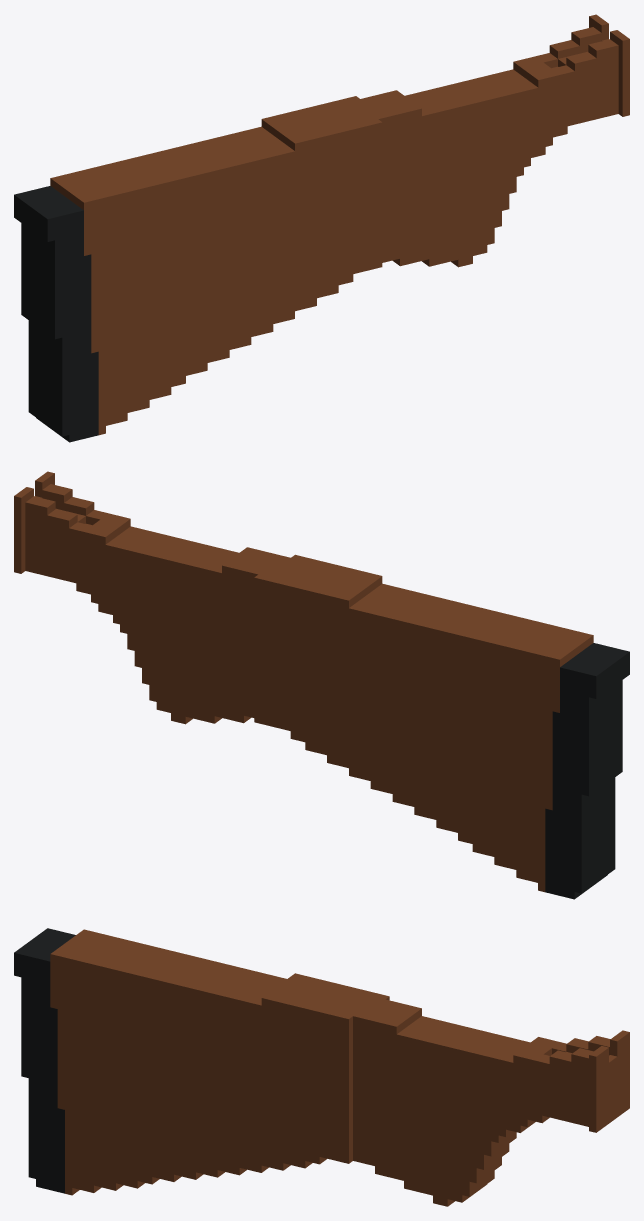
The model's file is stock_sporting_medium.glb.
3 views of the same model, one above another, from view 1: azimuth 30°, elevation 25°; view 2: azimuth 150°, elevation 25°; view 3: azimuth 330°, elevation 25° (orthographic).
Parts seen in each view (by area): view 1: stock_sporting_medium:stock; view 2: stock_sporting_medium:stock; view 3: stock_sporting_medium:stock.
Boxes of the visible parts, x1=… form: stock_sporting_medium:stock: x1=14, y1=14, x2=629, y2=442; stock_sporting_medium:stock: x1=14, y1=471, x2=629, y2=899; stock_sporting_medium:stock: x1=14, y1=928, x2=629, y2=1206.
Size of the model in its own units: 0.32 by 0.14 by 0.032.
